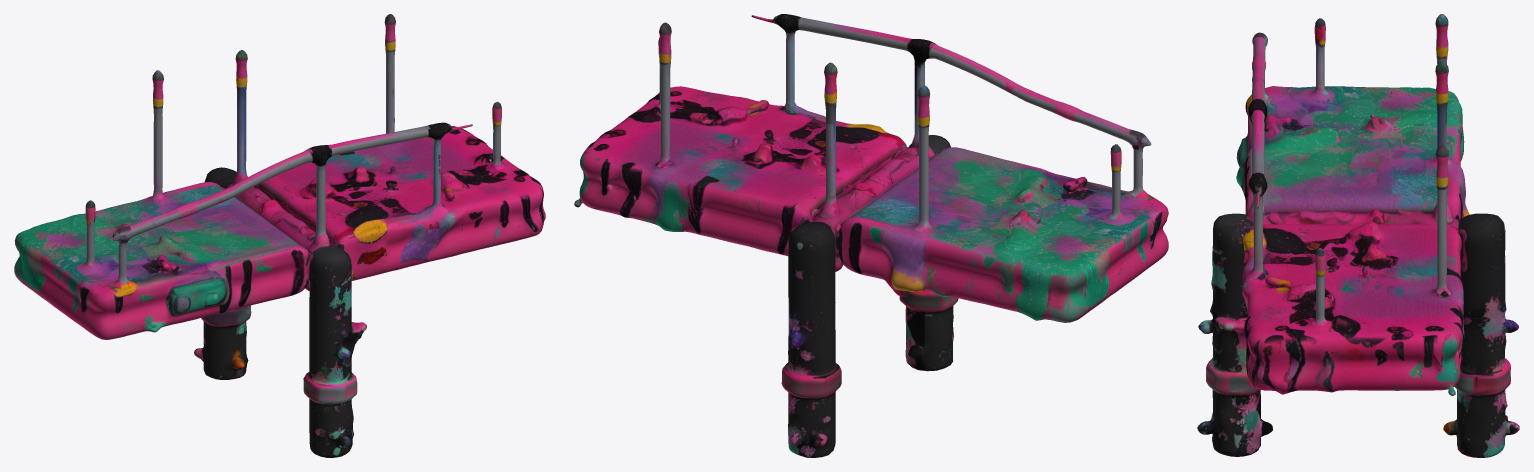
Rendered from ponte-viadotto-modulare.fbx.
The picture shows the model from 3 angles, left to right: view 1: azimuth 30°, elevation 25°; view 2: azimuth 150°, elevation 25°; view 3: azimuth 270°, elevation 25°; orthographic projection. The views are drawn at different scales.
Parts seen in each view (by area): view 1: tripo_node_32726cf9; view 2: tripo_node_32726cf9; view 3: tripo_node_32726cf9.
Part boxes in pixels (x1,y1,x2,y2): tripo_node_32726cf9: (14, 14, 545, 457); tripo_node_32726cf9: (574, 14, 1168, 457); tripo_node_32726cf9: (1197, 14, 1519, 457).
Bounding box in the file's own units: 99.92 × 70.01 × 52.92.
Materials: 1 (1 with a texture image).
